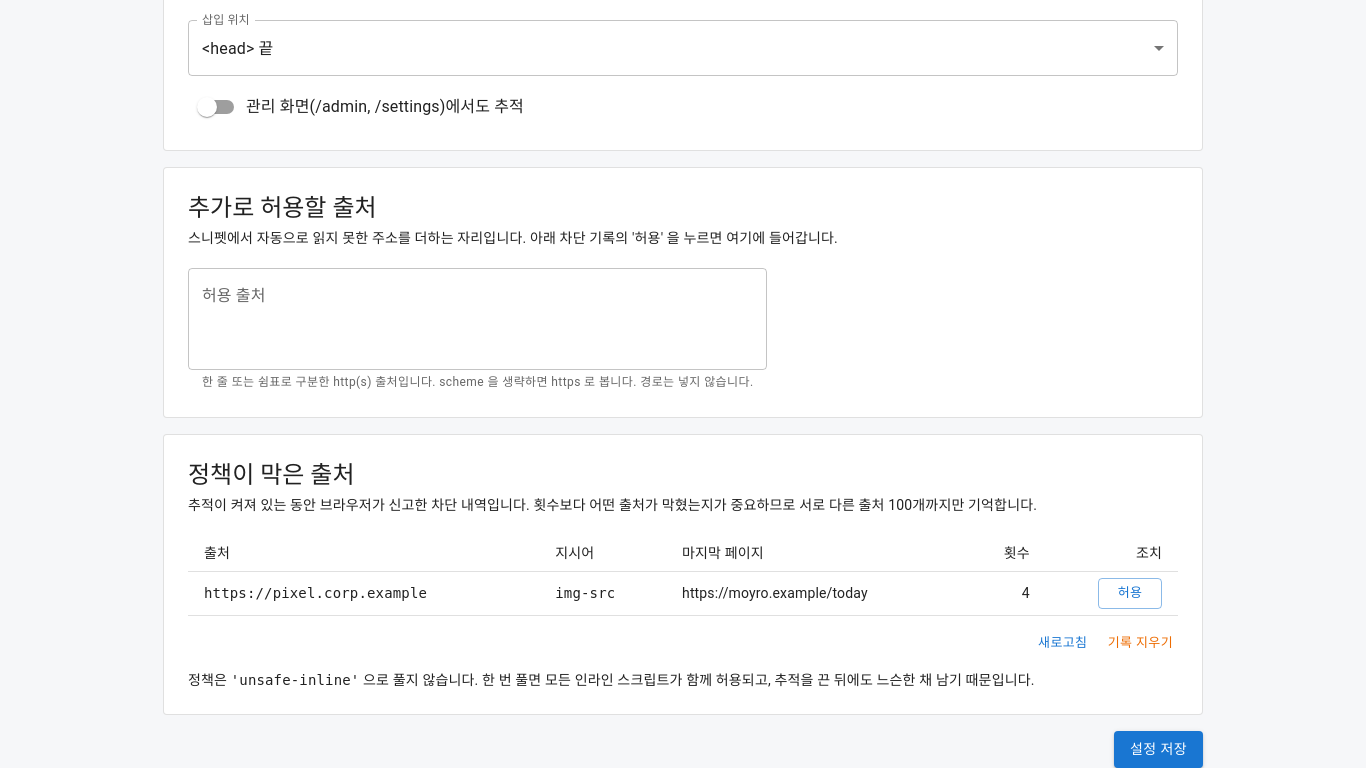
Test: TrackingSettingsPage › puts a blocked origin on the allow list with one click and saves
This screenshot has width=1366, height=768.
(page scrolled)
Click the button "허용" at (1130, 593), box x1=1098 y1=578 x2=1162 y2=609
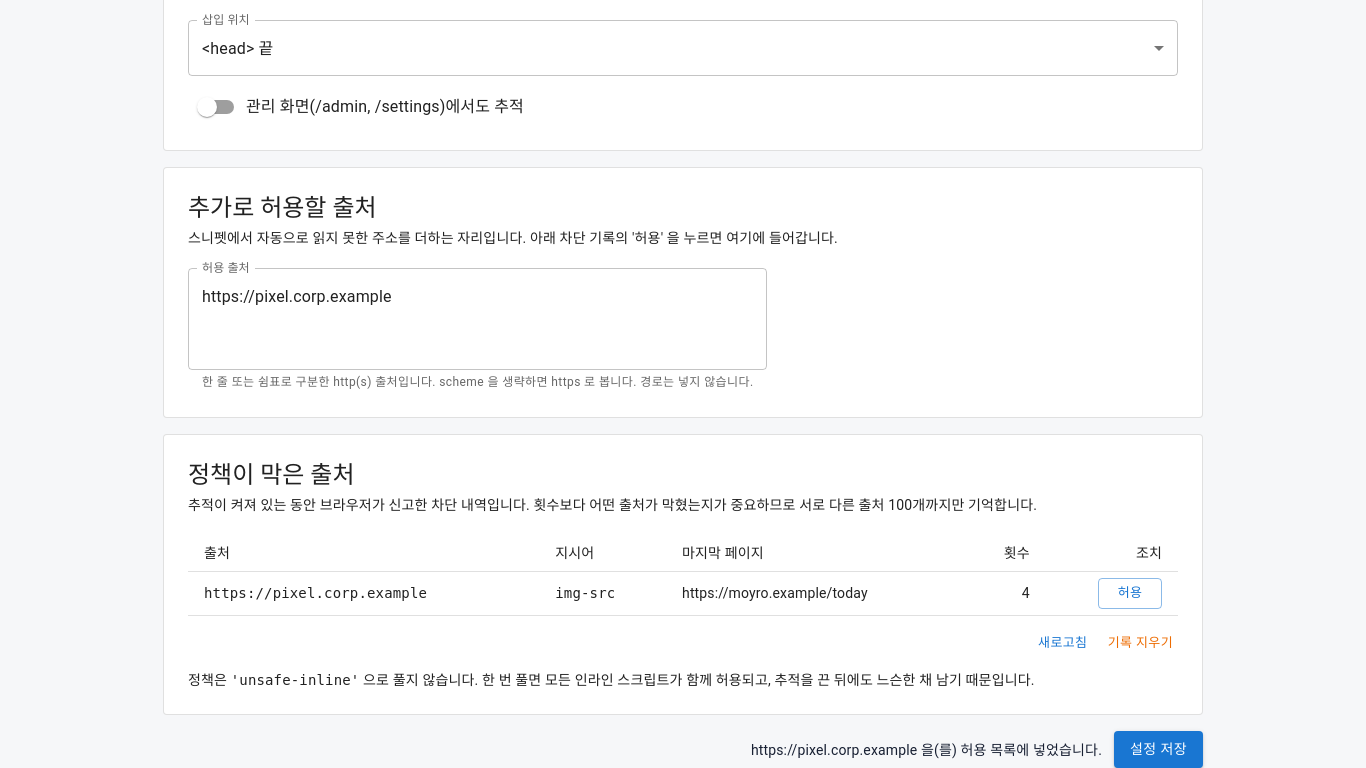
Expected: the text "허용 목록에 넣었습니다" is shown, x1=751 y1=742 x2=1102 y2=758
